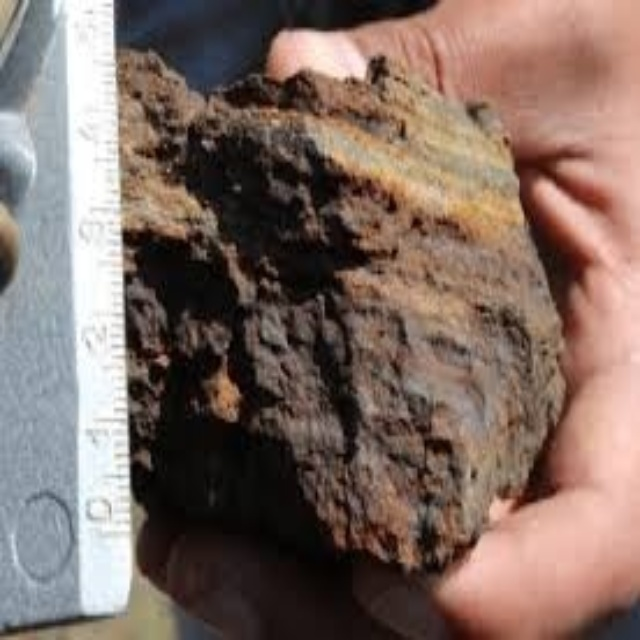obstacle: (118, 49, 563, 566)
